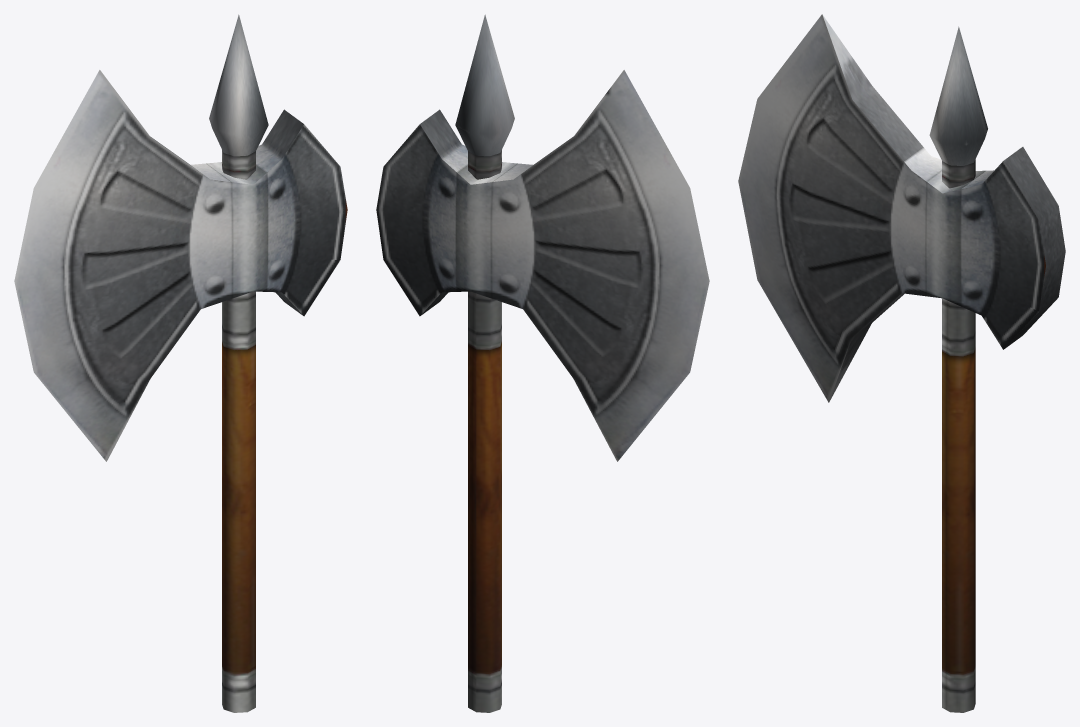
3 renders of one model, left to right at view 1: azimuth 30°, elevation 25°; view 2: azimuth 150°, elevation 25°; view 3: azimuth 330°, elevation 25°, orthographic.
Parts seen in each view (by area): view 1: ax; view 2: ax; view 3: ax.
Boxes of the visible parts, <box> form: ax: <box>14,14,347,712</box>; ax: <box>376,14,709,712</box>; ax: <box>738,14,1065,712</box>.
Bounding box in the file's own units: 58.75 × 120 × 9.79.
